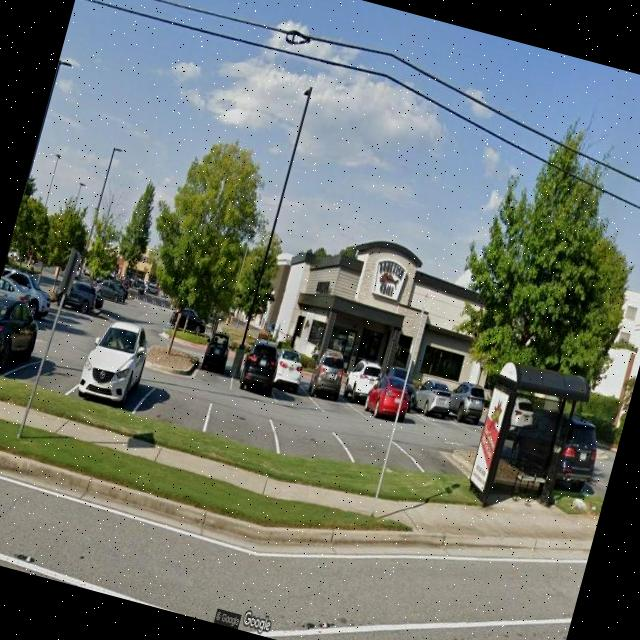seating: (509, 464, 550, 508)
shelter: (459, 356, 594, 528)
